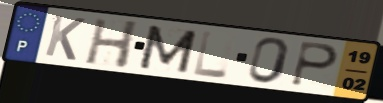0: (247, 36, 293, 86)
H: (83, 17, 141, 71)
K: (42, 13, 88, 63)
L: (192, 29, 230, 80)
M: (136, 23, 201, 76)
P: (287, 40, 341, 89)
